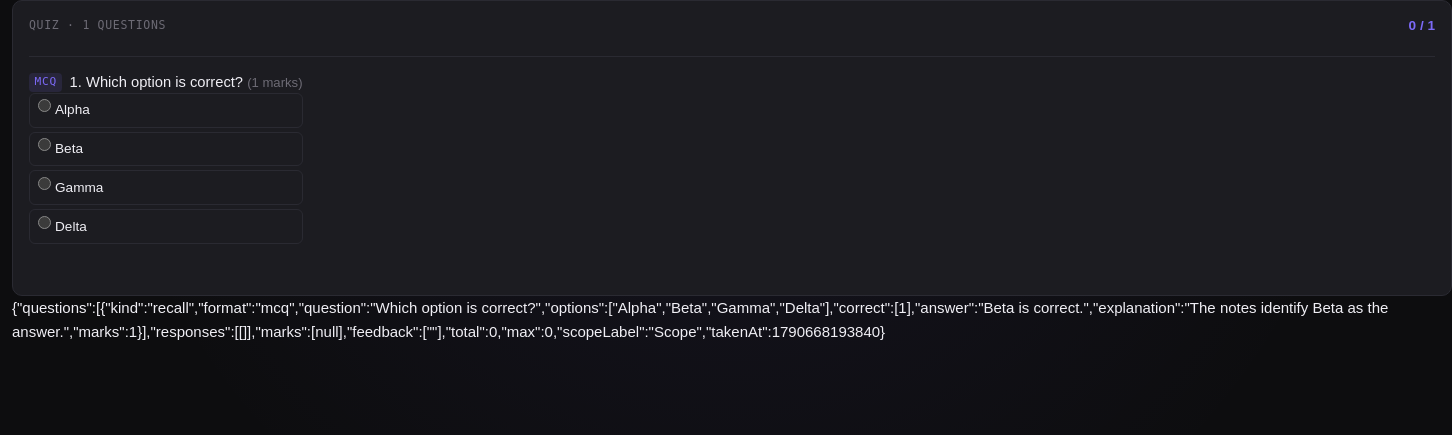
Test case: QuizRunner › grades MCQs immediately when immediate feedback is enabled
The width and height of the screenshot is (1452, 435).
What coordinates should you click on to do the following:
click the radio button labelled "Beta"
I would click on:
 (44, 145)
Its box is 38,138 -> 51,151.
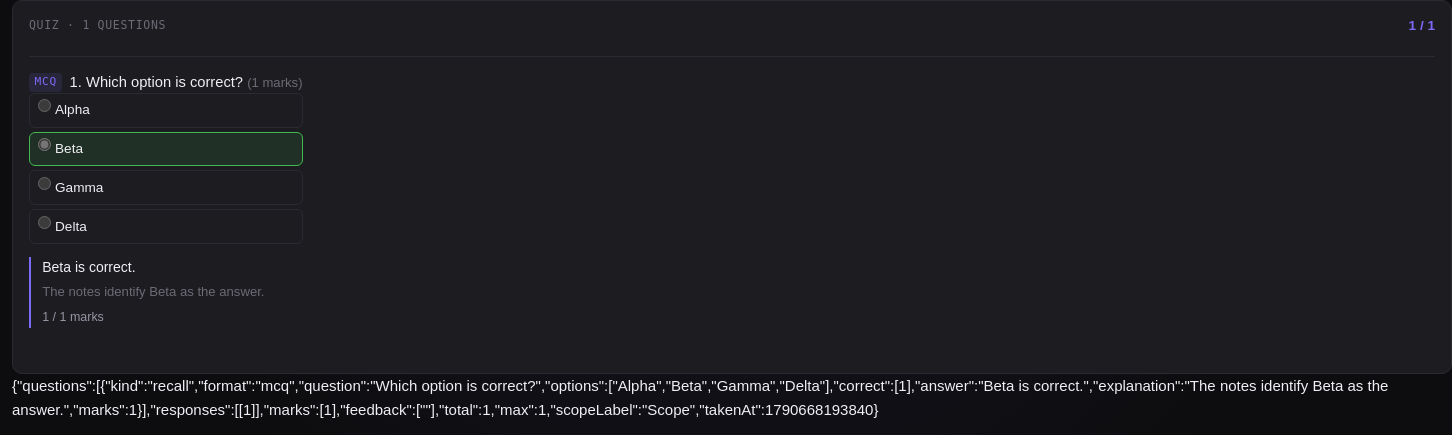
Expected: the text "Beta is correct." is shown, 42,259 -> 136,275
Expected: the text "1 / 1 marks" is shown, 42,310 -> 104,324
